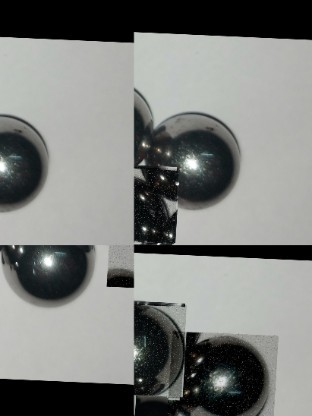ironball: (169, 329, 280, 415), (151, 110, 239, 204), (0, 244, 96, 316), (0, 104, 57, 209), (133, 300, 188, 396), (133, 164, 180, 242), (135, 85, 155, 167), (109, 245, 133, 287)
